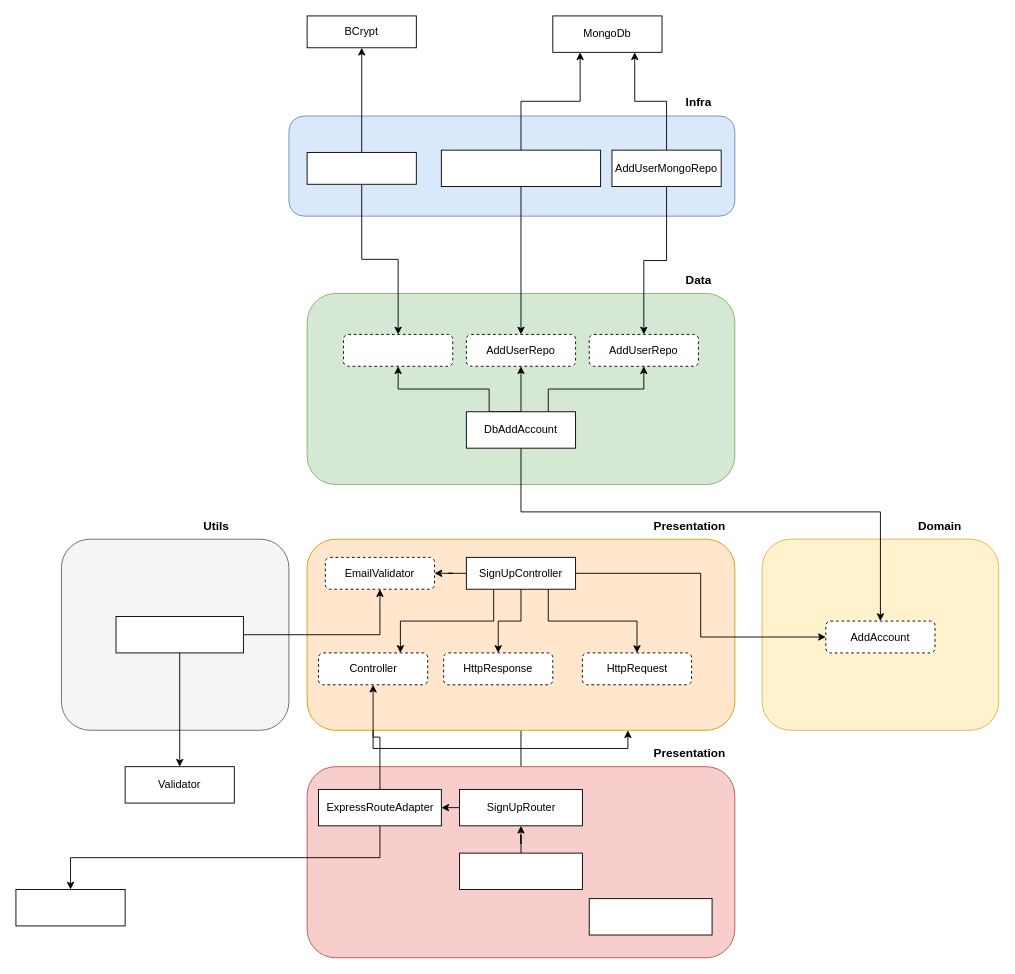
Image size: 1015x974. Some labels were removed from this diagram. The shapes that lost their labels are listed below. From the top down, each one's centre as x and y in pixels, then its label:
At pixel 361 168: "BCryptAdapter".
At pixel 520 168: "LoadUserByEmailMongoRepo".
At pixel 398 350: "Encrypter".
At pixel 179 634: "EmailValidatorAdapter".
At pixel 520 871: "App".
At pixel 70 907: "Express".
At pixel 650 916: "SignUpComposer".
